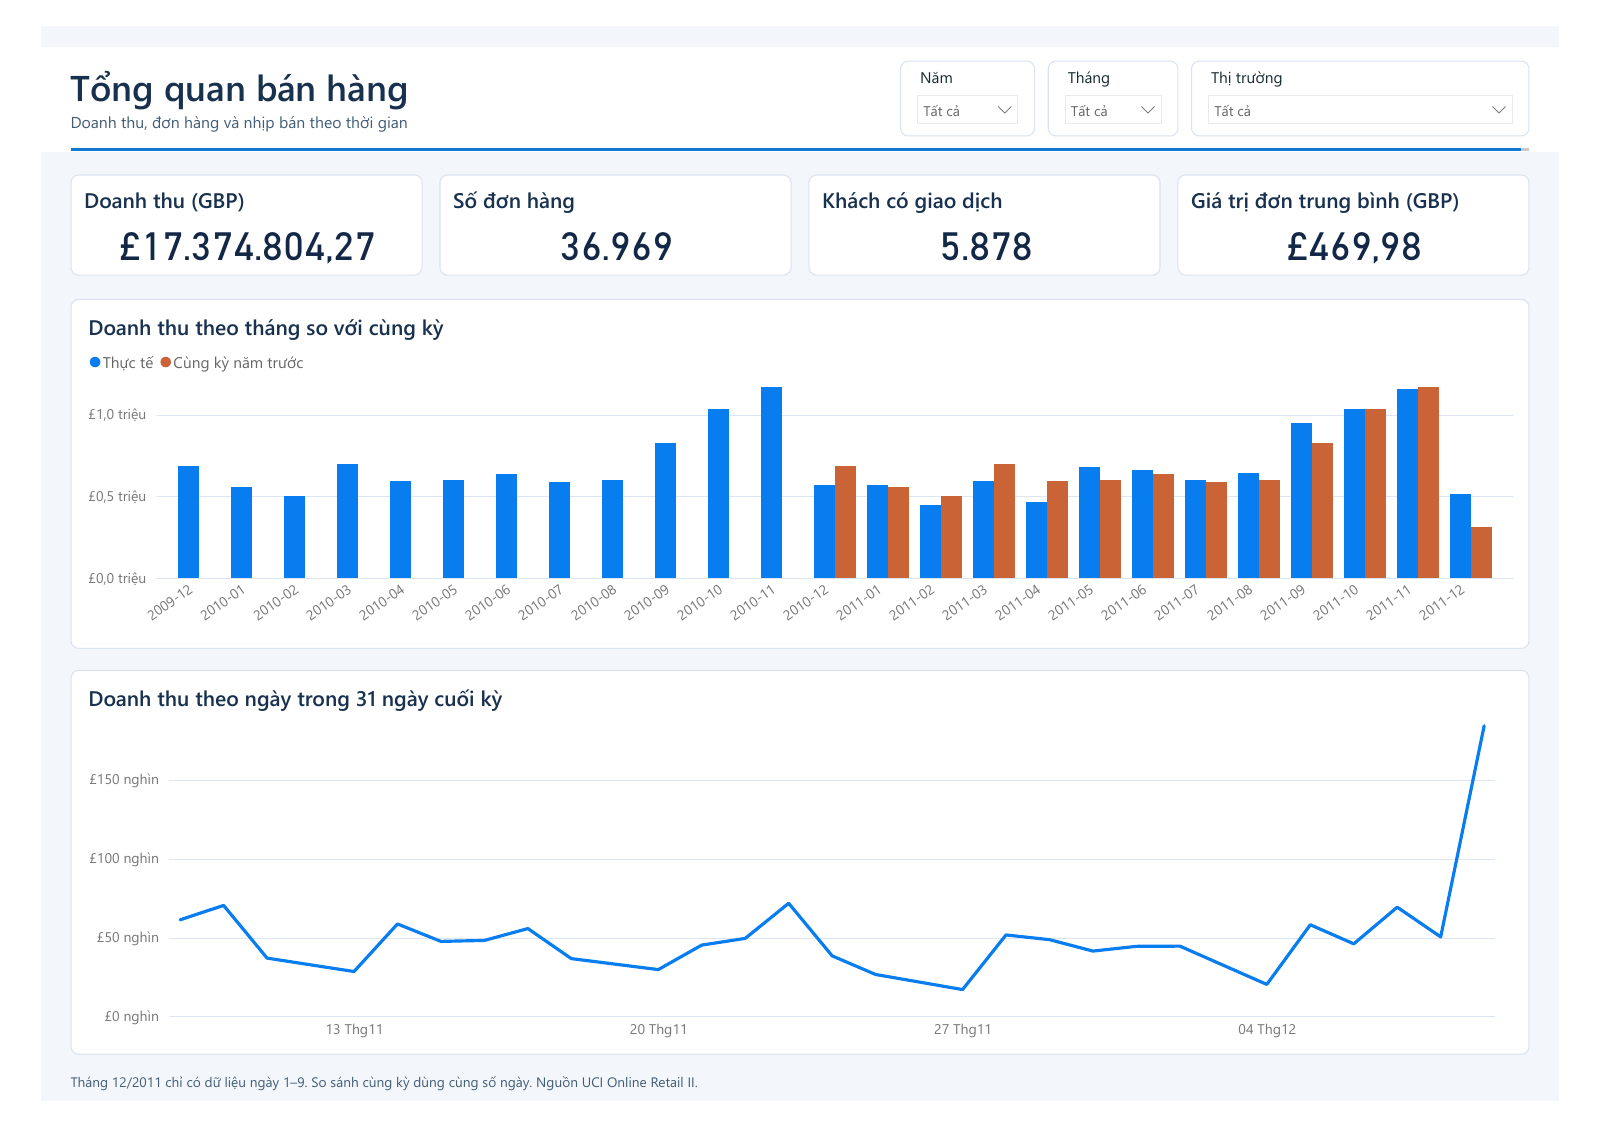

What the dashboard file says about the page in this screenshot:
{"tool":"powerbi","page":{"name":"Tổng quan bán hàng","canvas":[1440,1000],"ordinal":0},"visuals":[{"type":"textbox","box":[0,0,1440,100],"z":0},{"type":"slicer","fields":{"Values":["DimDate.Year"]},"box":[815,13,128,72],"z":19535},{"type":"slicer","fields":{"Values":["DimDate.MonthNo"]},"box":[955,13,124,72],"z":19675},{"type":"slicer","fields":{"Values":["DimCountry.CountryVI"]},"box":[1091,13,321,72],"z":19811},{"type":"textbox","box":[28,96,1384,3],"z":138268},{"type":"card","title":"Doanh thu (GBP)","fields":{"Values":["FactSales.Sales revenue"]},"box":[28,121,334,96],"z":174268},{"type":"card","title":"Số đơn hàng","fields":{"Values":["FactSales.Orders"]},"box":[378,121,334,96],"z":174618},{"type":"card","title":"Khách có giao dịch","fields":{"Values":["FactSales.Active customers"]},"box":[728,121,334,96],"z":174968},{"type":"card","title":"Giá trị đơn trung bình (GBP)","fields":{"Values":["FactSales.Average order value"]},"box":[1078,121,334,96],"z":175318},{"type":"clusteredColumnChart","title":"Doanh thu theo tháng so với cùng kỳ","fields":{"Category":["DimDate.YearMonth"],"Y":["FactSales.Sales revenue","FactSales.Sales same period last year"]},"box":[28,239,1384,332],"z":344188},{"type":"lineChart","title":"Doanh thu theo ngày trong 31 ngày cuối kỳ","fields":{"Category":["DimDate.Date"],"Y":["FactSales.Daily revenue last 31 selected days"]},"box":[28,591,1384,365],"z":851068},{"type":"textbox","box":[28,972,1384,22],"z":1399708}]}

Visuals, with their boxes in screenshot pixels (x1, y1, x2, y2), scaled from the page's 1440x1000 canvas onto the 1600x1127 screenshot:
textbox: x1=0 y1=0 x2=1599 y2=113
slicer - DimDate.Year: x1=906 y1=15 x2=1048 y2=96
slicer - DimDate.MonthNo: x1=1061 y1=15 x2=1199 y2=96
slicer - DimCountry.CountryVI: x1=1212 y1=15 x2=1569 y2=96
textbox: x1=31 y1=108 x2=1569 y2=112
"Doanh thu (GBP)" card: x1=31 y1=136 x2=402 y2=245
"Số đơn hàng" card: x1=420 y1=136 x2=791 y2=245
"Khách có giao dịch" card: x1=809 y1=136 x2=1180 y2=245
"Giá trị đơn trung bình (GBP)" card: x1=1198 y1=136 x2=1569 y2=245
"Doanh thu theo tháng so với cùng kỳ" clusteredColumnChart: x1=31 y1=269 x2=1569 y2=644
"Doanh thu theo ngày trong 31 ngày cuối kỳ" lineChart: x1=31 y1=666 x2=1569 y2=1077
textbox: x1=31 y1=1095 x2=1569 y2=1120
